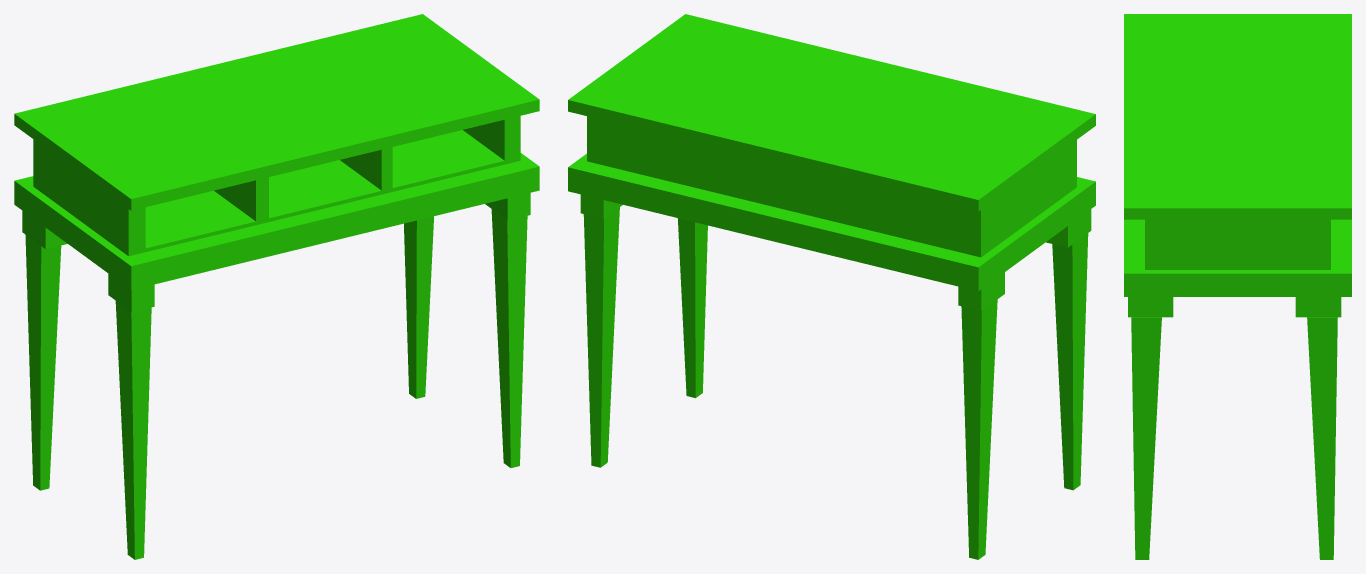
Rendered from Cupboard_13_Lod0.fbx.
3 views of the same model, side by side, from view 1: azimuth 30°, elevation 25°; view 2: azimuth 150°, elevation 25°; view 3: azimuth 270°, elevation 25° (orthographic). The views are drawn at different scales.
Parts seen in each view (by area): view 1: Cupboard_13_Lod0; view 2: Cupboard_13_Lod0; view 3: Cupboard_13_Lod0.
Boxes of the visible parts, left/top/right/bottom form: Cupboard_13_Lod0: left=14, top=14, right=539, bottom=559; Cupboard_13_Lod0: left=568, top=14, right=1095, bottom=559; Cupboard_13_Lod0: left=1124, top=14, right=1351, bottom=559.
Size of the model in its own units: 99.37 by 85.38 by 49.24.
